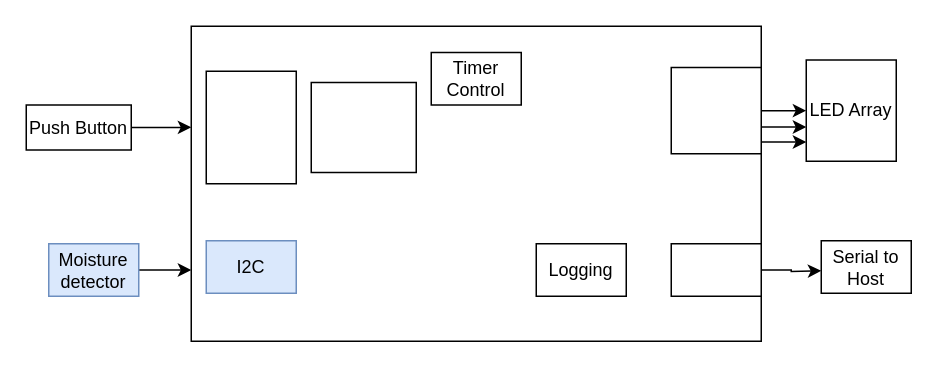
This 938x368 diagram has some shape labels left out. The shapes that lost their labels are listed below. From the top down, each one's centre as x and y in pixels, then its label:
At (x=250, y=127): "GPIO".
At (x=363, y=126): "ISR".
At (x=715, y=110): "PWM".
At (x=715, y=269): "SPI".
